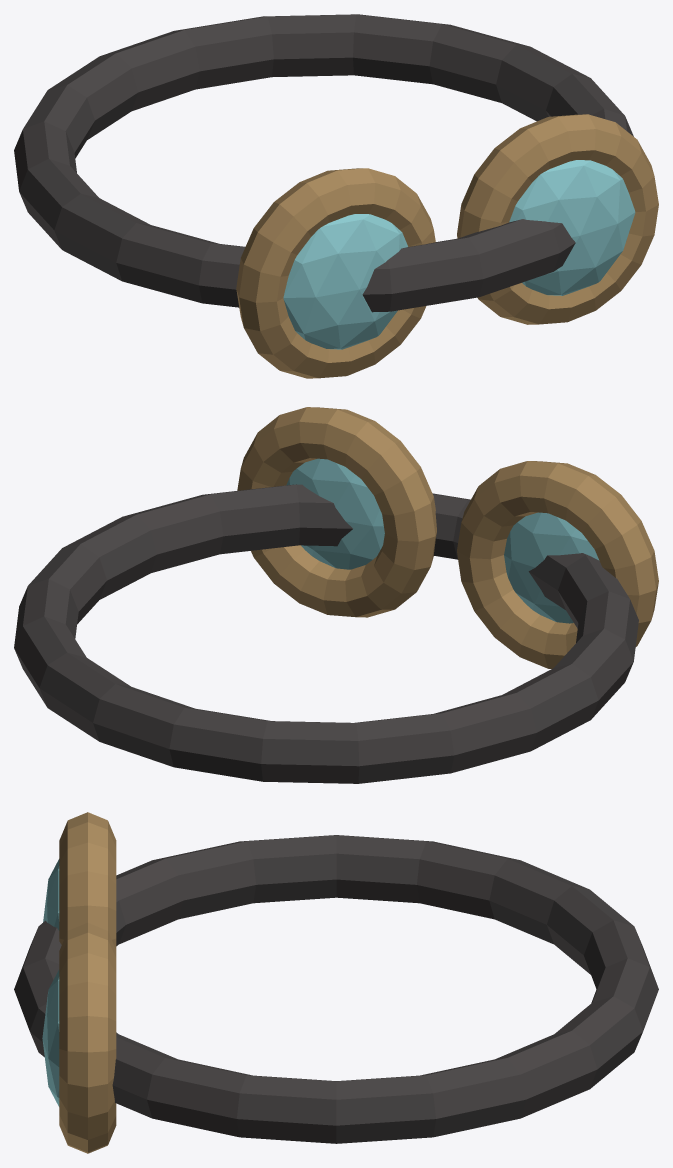
Rendered from hw-goggles.glb.
The picture shows the model from 3 angles, top to bottom: view 1: azimuth 30°, elevation 25°; view 2: azimuth 150°, elevation 25°; view 3: azimuth 270°, elevation 25°; orthographic projection. The views are drawn at different scales.
Parts seen in each view (by area): view 1: goggle_strap, goggle_frame_-1, goggle_frame_1, goggle_lens_-1, goggle_lens_1; view 2: goggle_strap, goggle_frame_1, goggle_frame_-1, goggle_lens_1, goggle_lens_-1; view 3: goggle_strap, goggle_frame_1, goggle_frame_-1, goggle_lens_1, goggle_lens_-1.
Part boxes in pixels (bbox=[...]): goggle_strap: bbox=[14, 14, 633, 312]; goggle_frame_-1: bbox=[236, 168, 435, 378]; goggle_frame_1: bbox=[457, 114, 658, 324]; goggle_lens_-1: bbox=[283, 214, 407, 349]; goggle_lens_1: bbox=[509, 160, 635, 295]; goggle_strap: bbox=[14, 484, 638, 783]; goggle_frame_1: bbox=[237, 407, 436, 617]; goggle_frame_-1: bbox=[457, 461, 658, 668]; goggle_lens_1: bbox=[286, 458, 384, 569]; goggle_lens_-1: bbox=[504, 512, 599, 623]; goggle_strap: bbox=[14, 835, 658, 1143]; goggle_frame_1: bbox=[59, 922, 116, 1153]; goggle_frame_-1: bbox=[59, 812, 116, 950]; goggle_lens_1: bbox=[42, 969, 59, 1106]; goggle_lens_-1: bbox=[43, 859, 59, 930].
Bounding box in the file's own units: 0.454 × 0.164 × 0.454.
